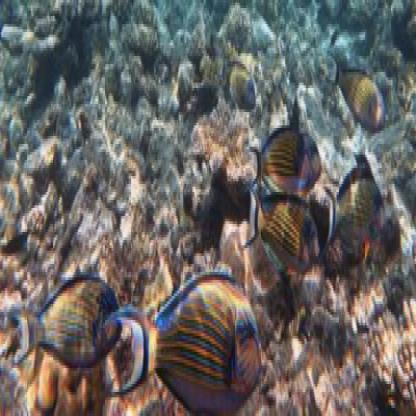Acanthuridae -Surgeonfishes-: (106, 270, 263, 409), (12, 262, 122, 377), (238, 185, 327, 284), (325, 166, 391, 273), (328, 54, 394, 132), (245, 118, 309, 188)
